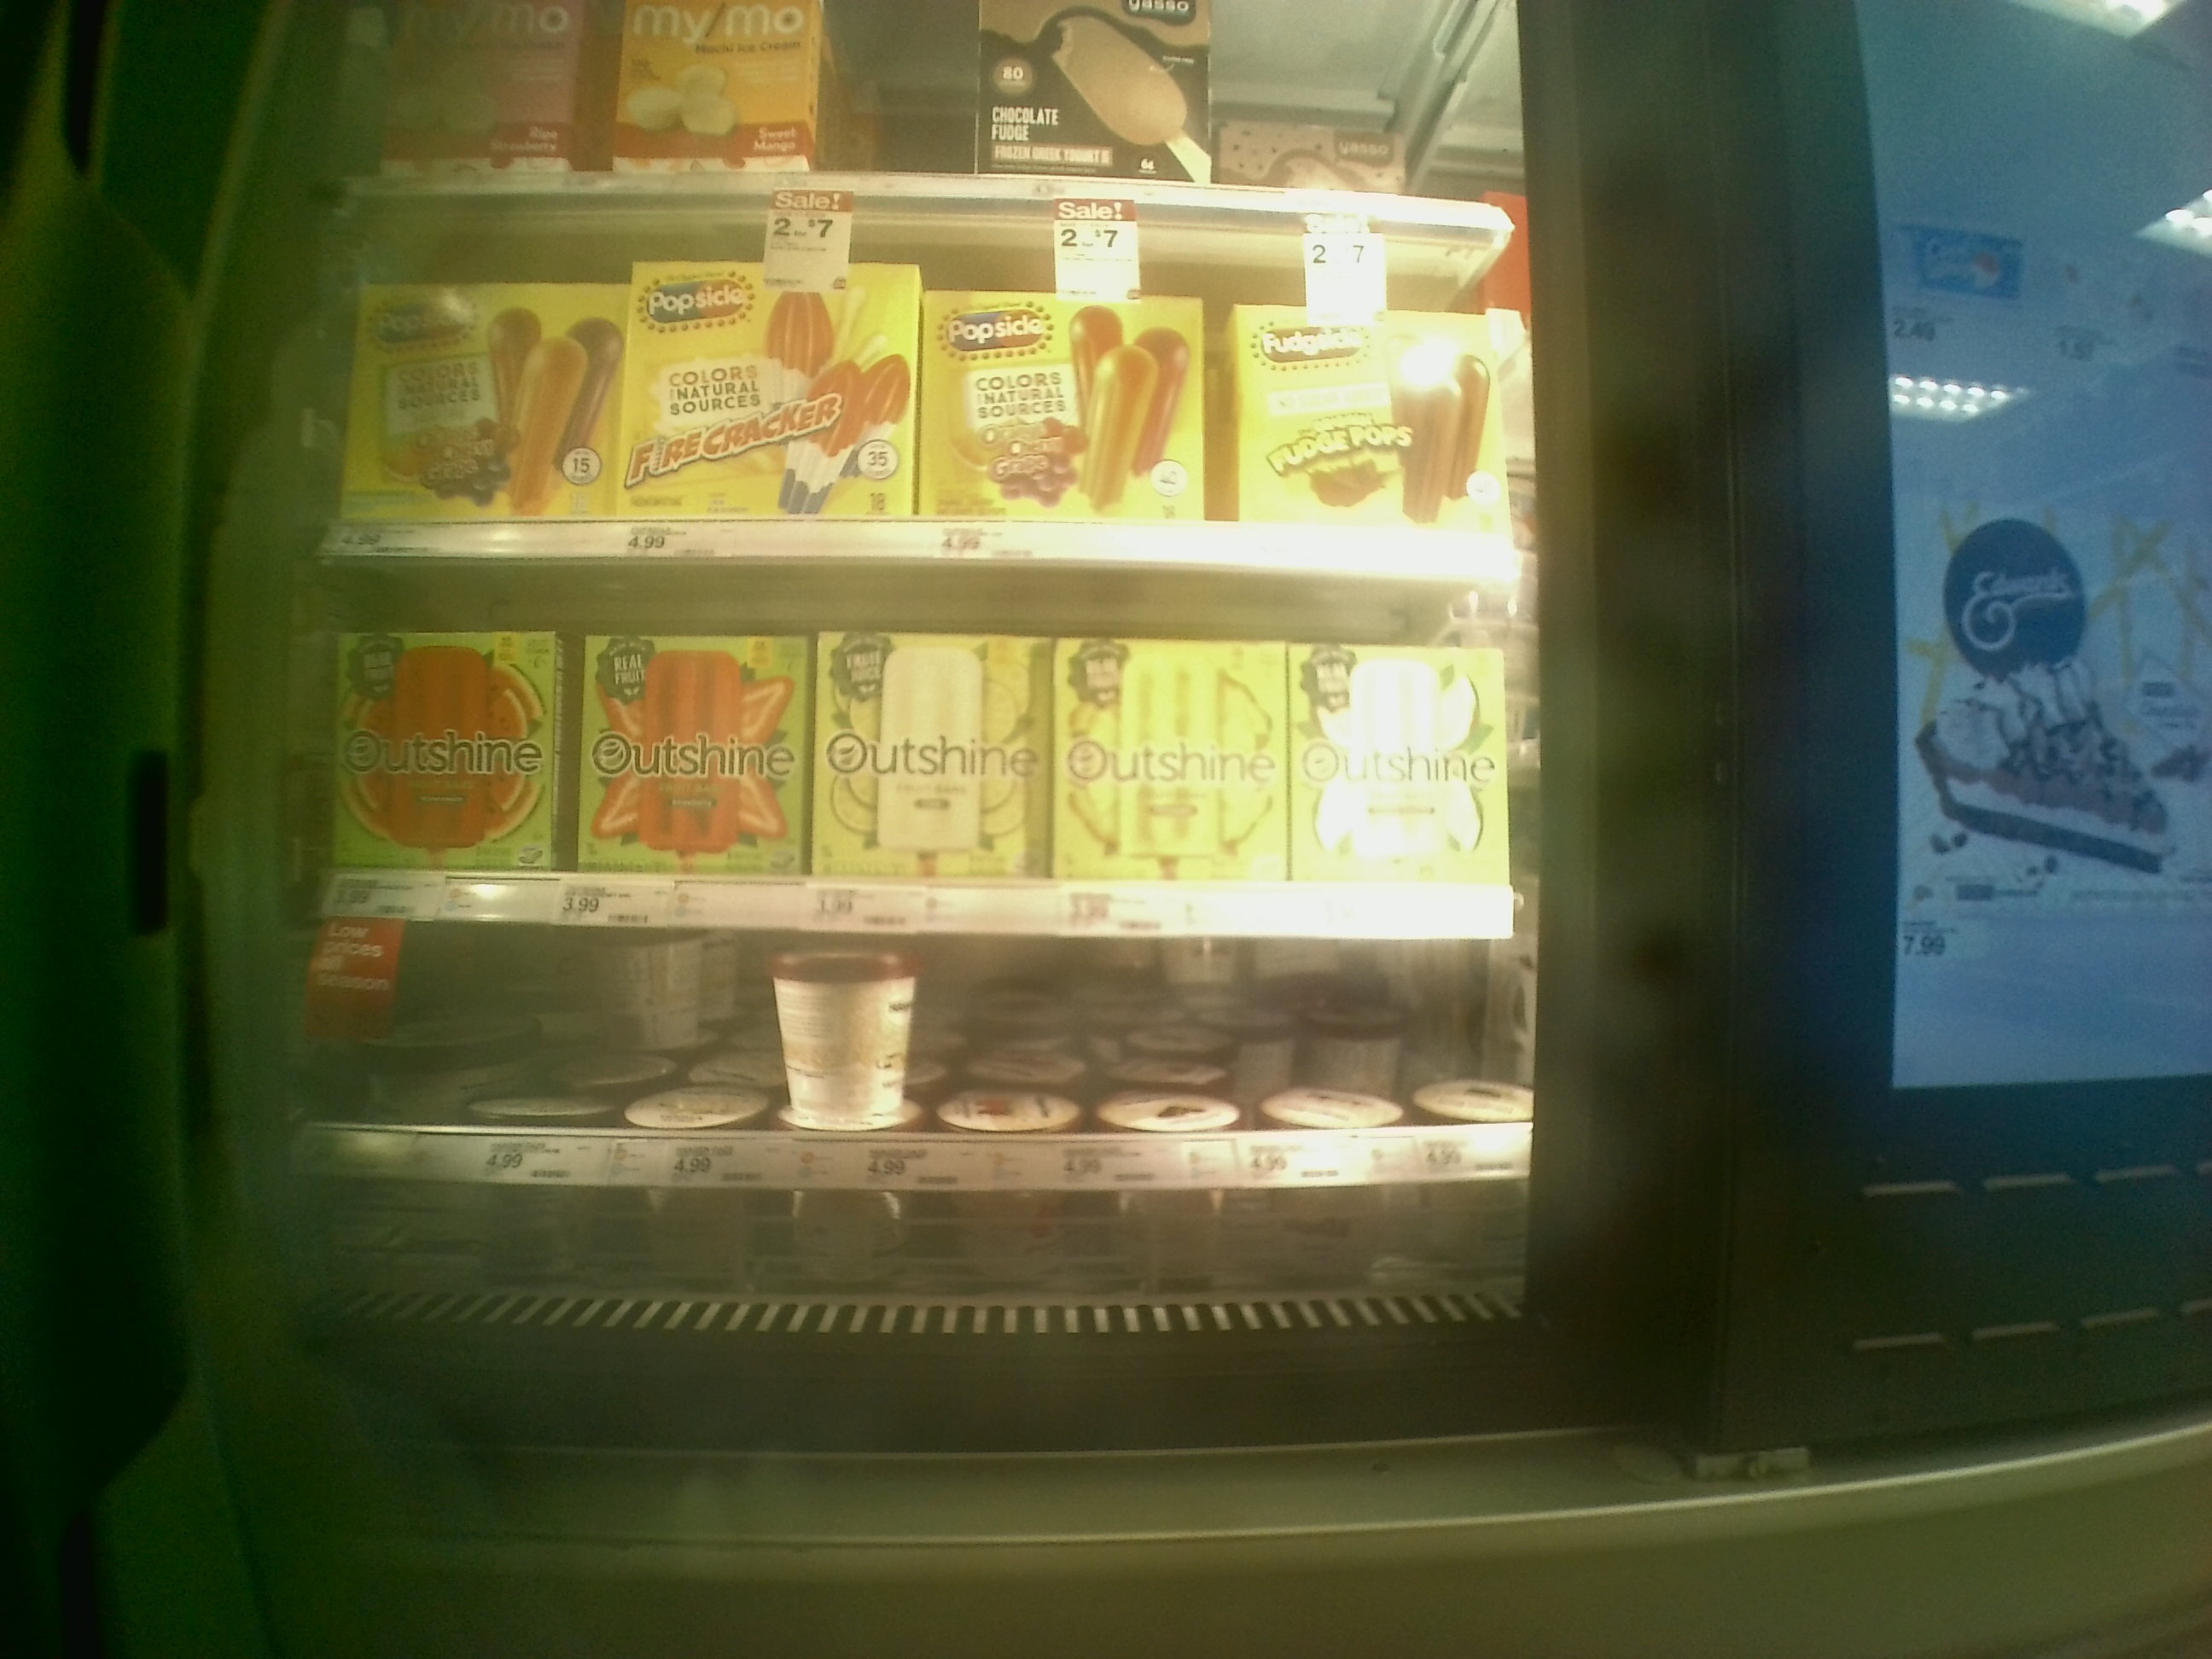ice-cream-shelf: (320, 185, 1541, 561), (320, 561, 1526, 934), (310, 917, 1538, 1180)
